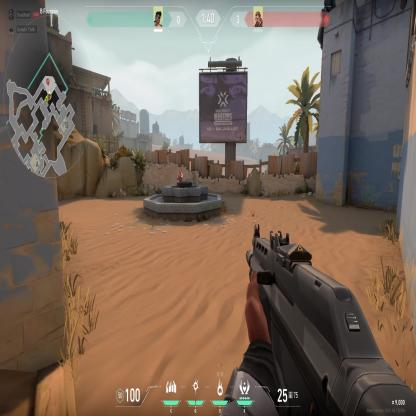enemy: (177, 168, 183, 182)
